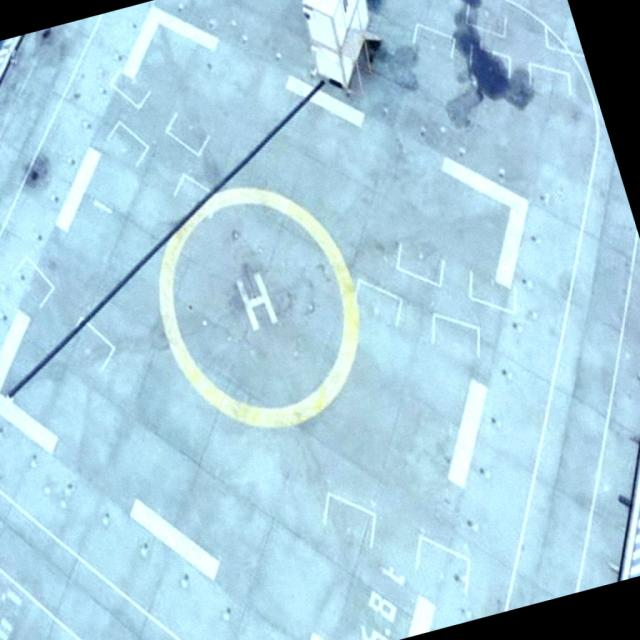helipad: (156, 180, 364, 434)
